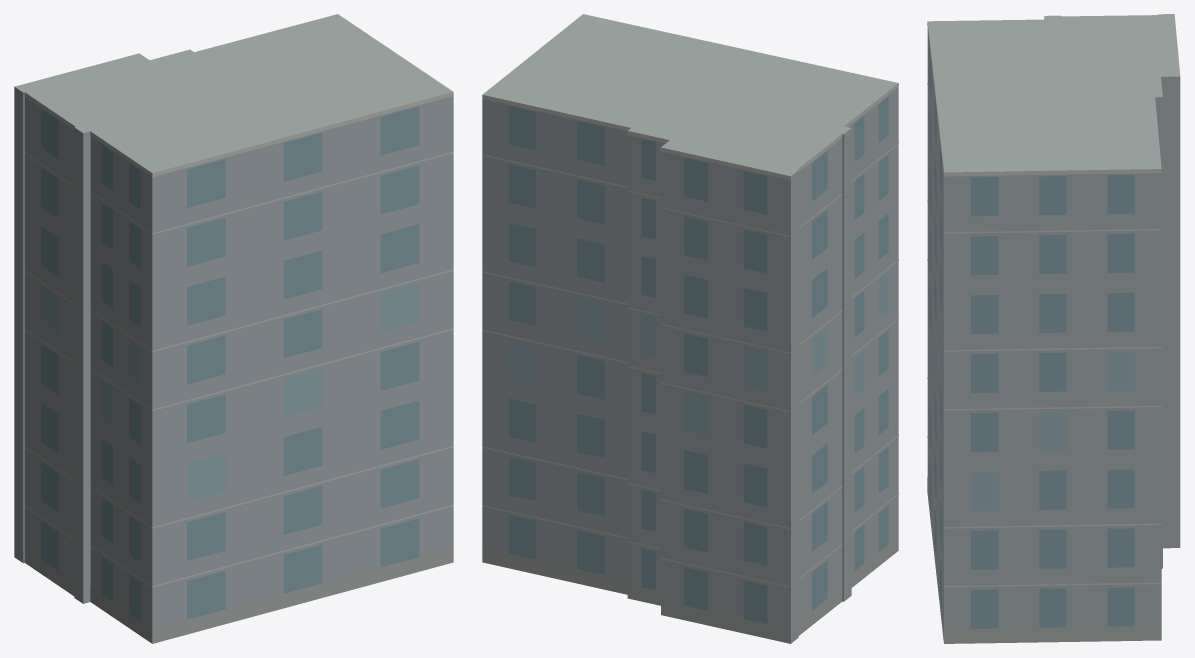
The model's file is survey-upis-32554936.glb.
3 renders of one model, left to right at view 1: azimuth 30°, elevation 25°; view 2: azimuth 150°, elevation 25°; view 3: azimuth 270°, elevation 25°, orthographic.
Visible parts, largest first — view 1: survey-upis-32554936.tmp; view 2: survey-upis-32554936.tmp; view 3: survey-upis-32554936.tmp.
Part boxes in pixels (x1,y1,x2,y2): survey-upis-32554936.tmp: (14,14,453,643); survey-upis-32554936.tmp: (482,14,898,643); survey-upis-32554936.tmp: (927,14,1180,643).
Size of the model in its own units: 20.27 by 28.1 by 13.69.
